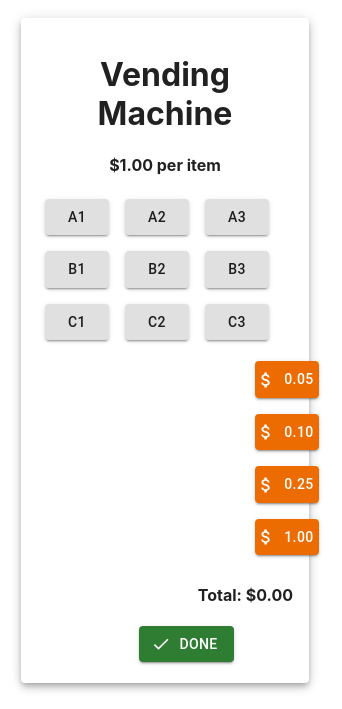
vending machine component › should check that total is in the document
Step 1. Click the button named "$0.05" → (287, 380), box [255,362,319,398]
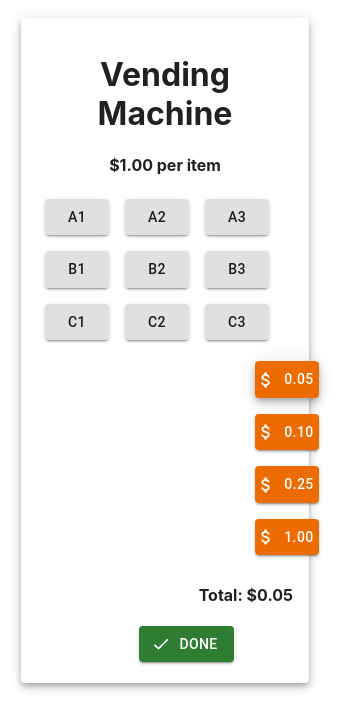
Check: the text "Total: $0.05" is shown, box [199,585,293,605]
